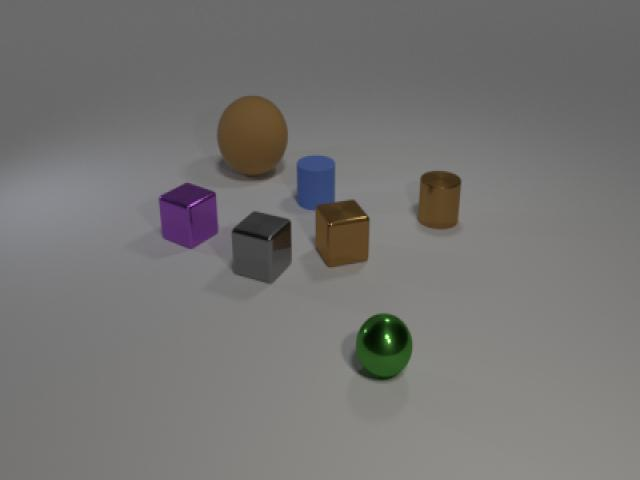cylinder: (413, 163, 464, 233), (292, 152, 340, 212)
round ball: (215, 90, 291, 180), (352, 308, 416, 385)
